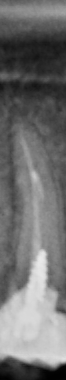fracture: (19, 139, 43, 187)
